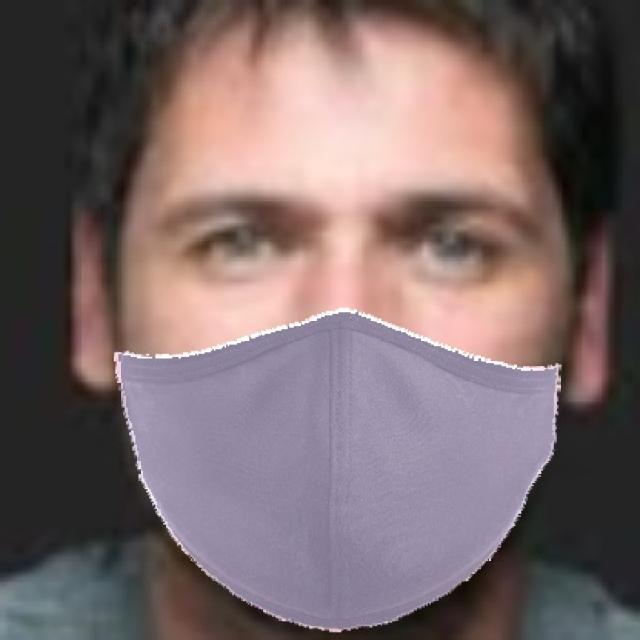mask: (105, 288, 561, 640)
